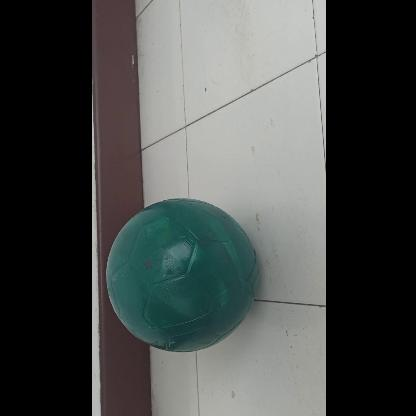green_ball: (105, 201, 255, 351)
